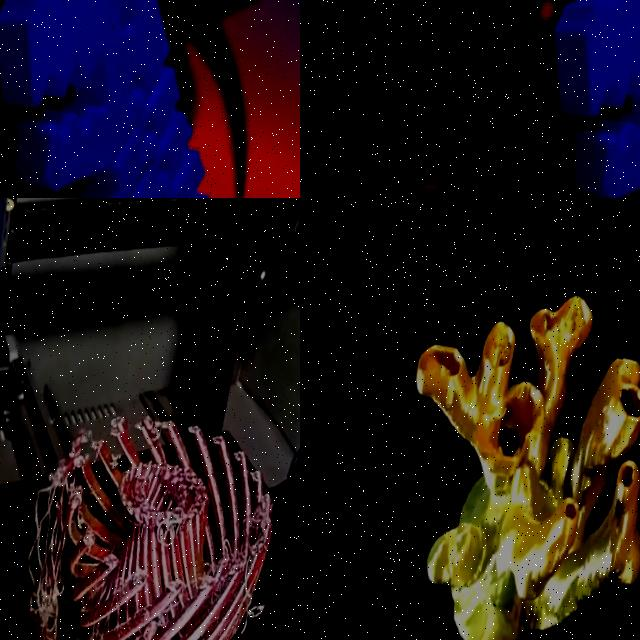spaghetti: (0, 453, 116, 640), (228, 548, 290, 630)
